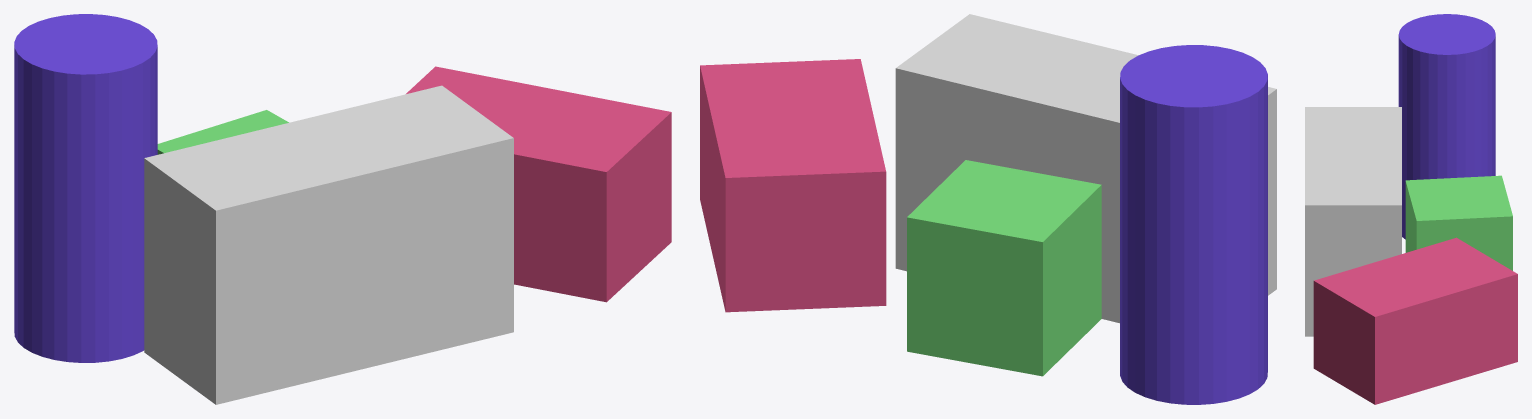
The picture shows the model from 3 angles, left to right: view 1: azimuth 30°, elevation 25°; view 2: azimuth 150°, elevation 25°; view 3: azimuth 270°, elevation 25°; orthographic projection. The views are drawn at different scales.
Parts seen in each view (by area): view 1: Cube, Cylinder, Cube.001, Cube.002; view 2: Cylinder, Cube.001, Cube, Cube.002; view 3: Cube.001, Cube, Cylinder, Cube.002.
Part boxes in pixels (x1=…): Cube: x1=144, y1=85, x2=513, y2=404; Cylinder: x1=14, y1=14, x2=157, y2=362; Cube.001: x1=406, y1=66, x2=671, y2=302; Cube.002: x1=157, y1=110, x2=288, y2=154; Cylinder: x1=1120, y1=45, x2=1267, y2=404; Cube.001: x1=700, y1=59, x2=886, y2=312; Cube: x1=895, y1=14, x2=1276, y2=323; Cube.002: x1=907, y1=160, x2=1101, y2=376; Cube.001: x1=1313, y1=237, x2=1517, y2=404; Cube: x1=1305, y1=107, x2=1401, y2=336; Cylinder: x1=1398, y1=14, x2=1495, y2=239; Cube.002: x1=1405, y1=175, x2=1512, y2=270.
Bounding box in the file's own units: 9.56 × 4.39 × 4.45.
